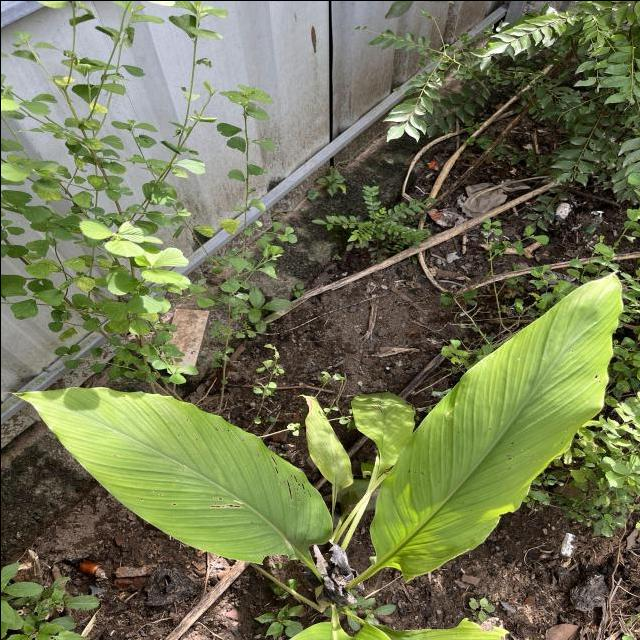Curcuma longa: (364, 264, 625, 580), (0, 381, 337, 569)
